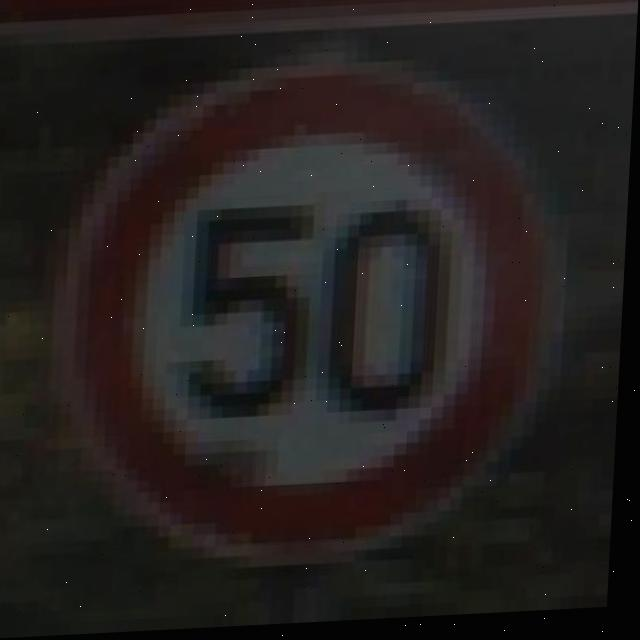Speed limit 50: (45, 48, 570, 576)
